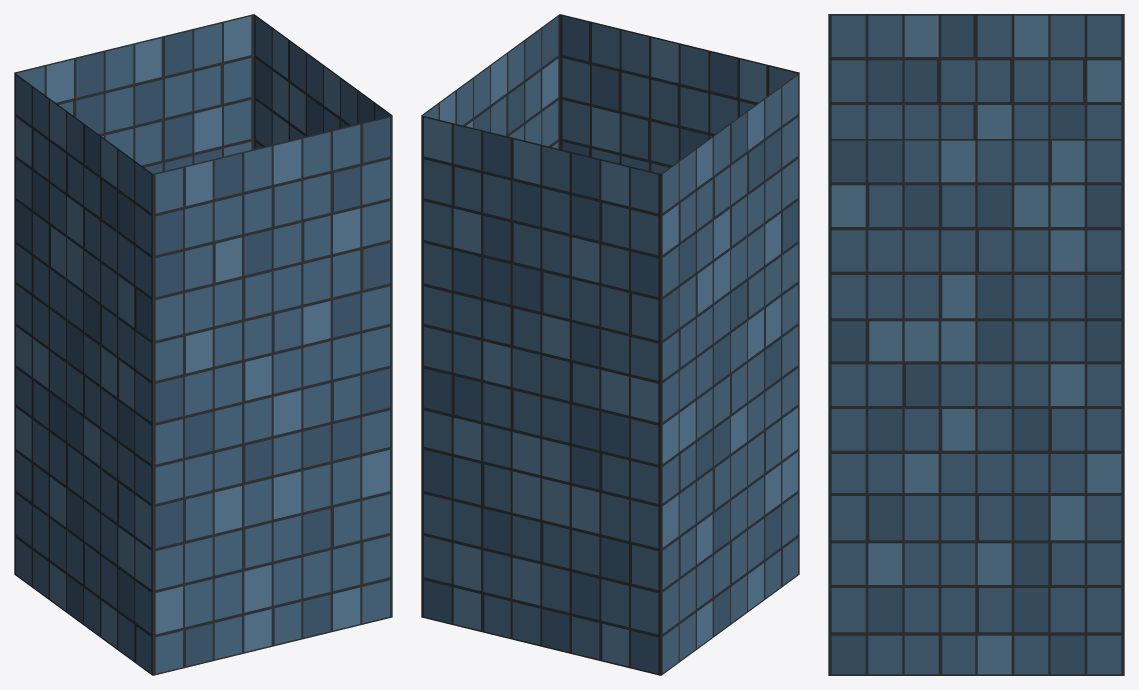
Rendered from bld_square.glb.
3 renders of one model, left to right at view 1: azimuth 30°, elevation 25°; view 2: azimuth 150°, elevation 25°; view 3: azimuth 270°, elevation 25°, orthographic. The views are drawn at different scales.
Visible parts, largest first — view 1: SM_Bld_OfficeSquare_01; view 2: SM_Bld_OfficeSquare_01; view 3: SM_Bld_OfficeSquare_01.
Part boxes in pixels (<box>): SM_Bld_OfficeSquare_01: <box>14,14,392,675</box>; SM_Bld_OfficeSquare_01: <box>421,14,799,675</box>; SM_Bld_OfficeSquare_01: <box>828,14,1124,675</box>.
Bounding box in the file's own units: 15 × 30 × 15.
Materials: 1 (1 with a texture image).
